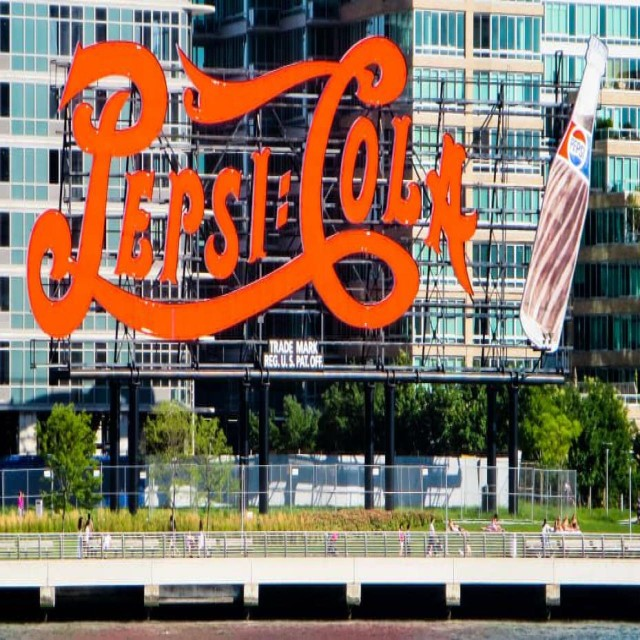pepsi: (566, 120, 589, 170)
